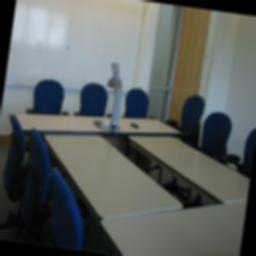Puerta: (168, 13, 209, 125)
